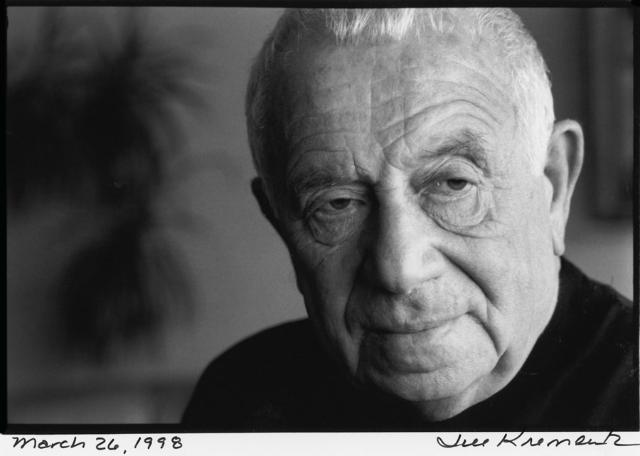chin: (396, 360, 448, 380)
crows_feet: (288, 211, 322, 249), (477, 172, 501, 222)
forehead: (402, 87, 494, 133), (282, 120, 346, 162), (364, 83, 381, 133)
frown_line: (376, 142, 402, 176)
gummy_smile: (436, 246, 496, 298), (336, 275, 362, 335)
sad_smile: (466, 313, 506, 357), (351, 338, 373, 382)
